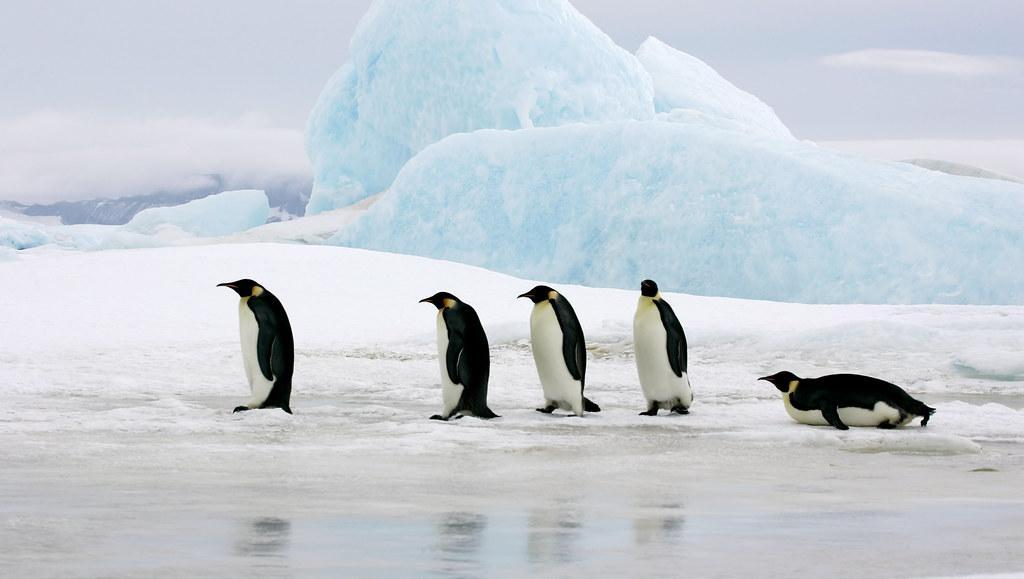Penguin: (516, 286, 600, 416), (419, 292, 502, 421), (758, 371, 937, 430), (216, 278, 293, 414), (635, 279, 694, 415)
